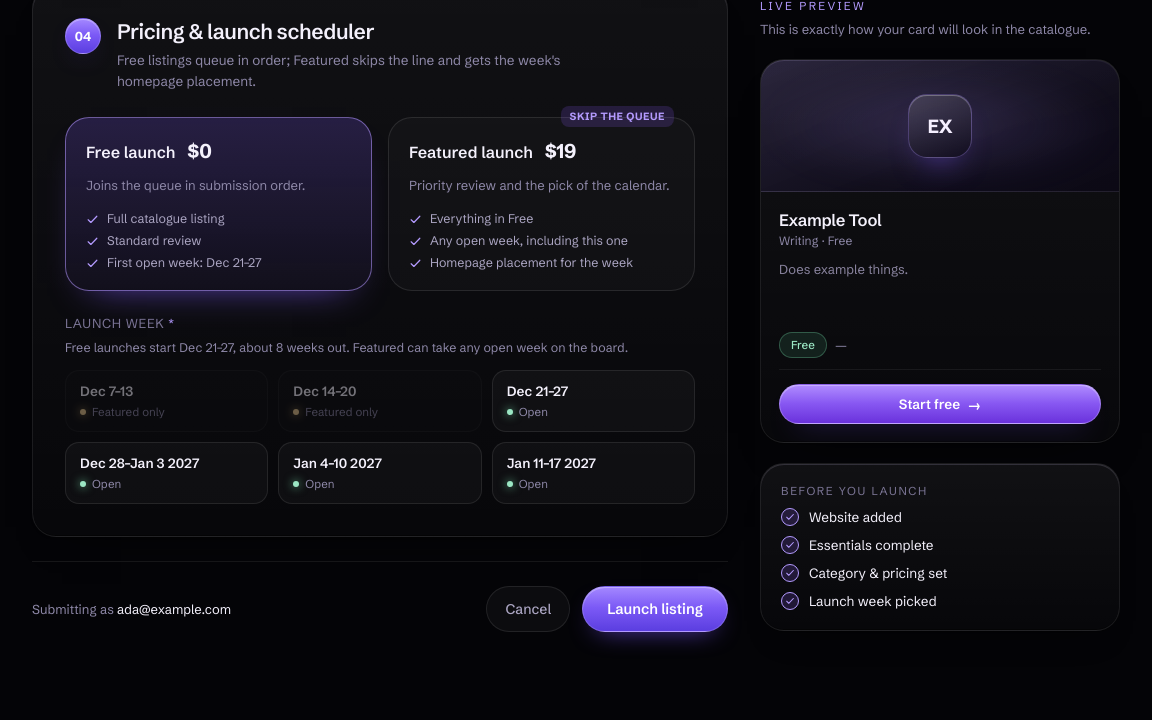
Test: SubmitPage with accounts › a 401 from the submission (expired session) reopens the gate with the form intact
(page scrolled)
Check: the text "ada@example.com" is shown, box 117,601 -> 231,617
Click the button "Launch listing" at (655, 609), box 582,586 -> 728,632
(page scrolled)
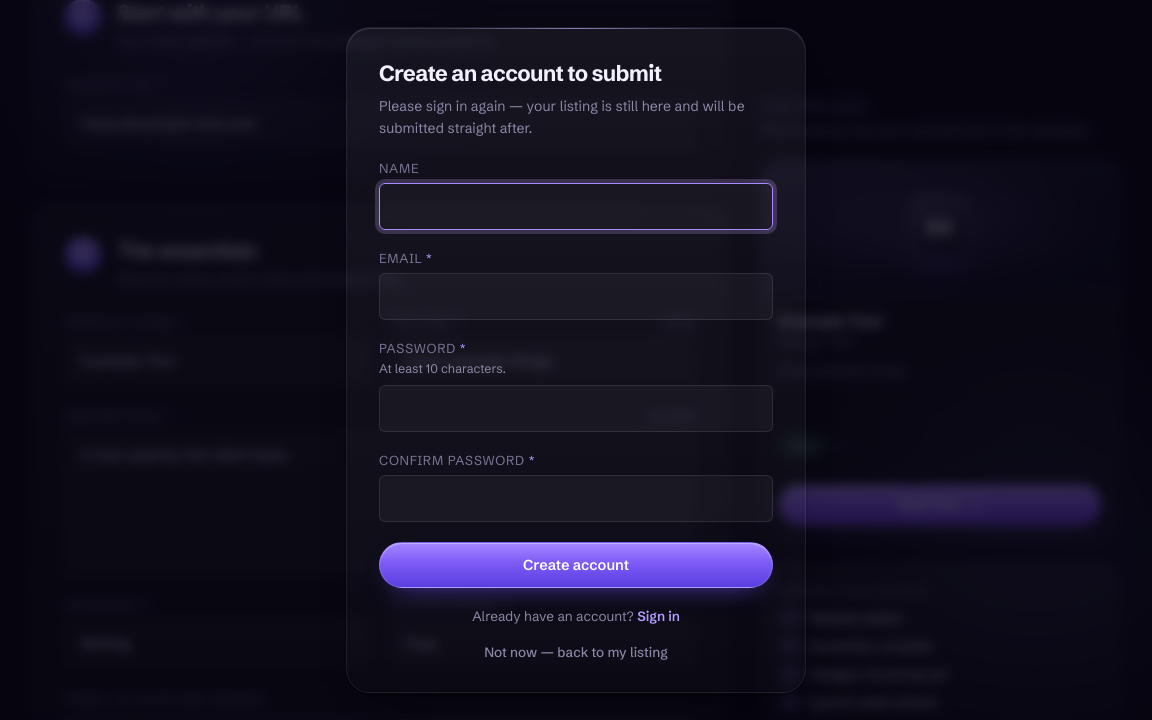
Check: the field labelled "Product name *" holds "Example Tool", box 65,337 -> 370,384
Check: the text "sign in again" is shown, box 379,97 -> 745,137
